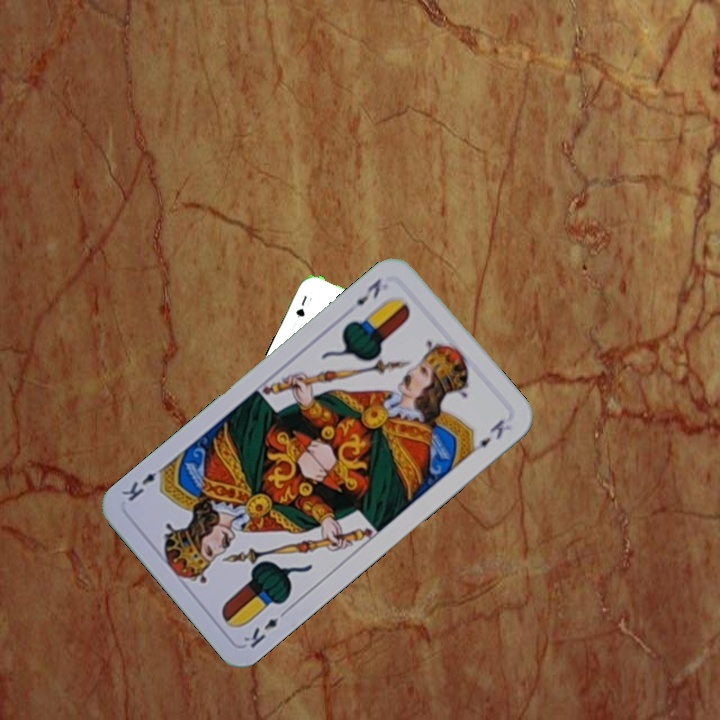EK: (239, 604, 291, 651), (351, 274, 385, 309)
GU: (292, 291, 310, 321)
